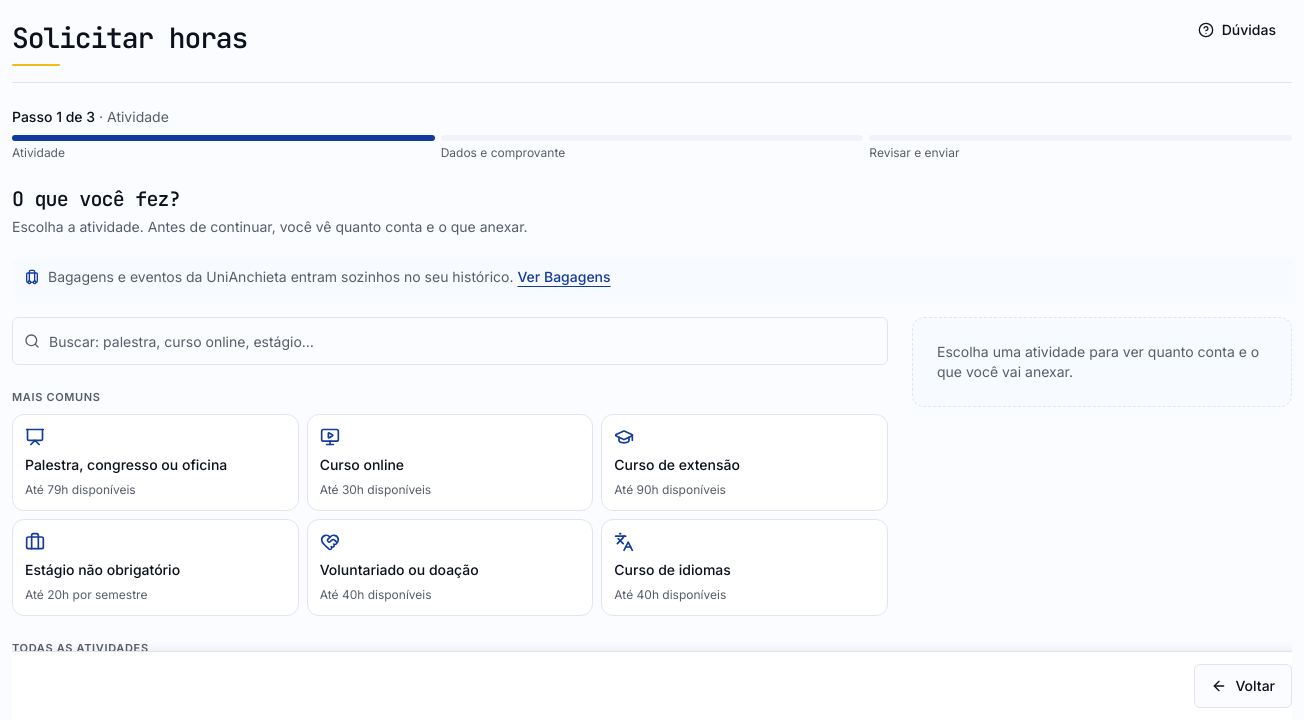
Test case: Solicitação › busca por bagagem explica que as horas entram sozinhas
This screenshot has width=1304, height=720.
In the search field named "Buscar atividade": (450, 341) [12,317,888,365], type "bagagem"
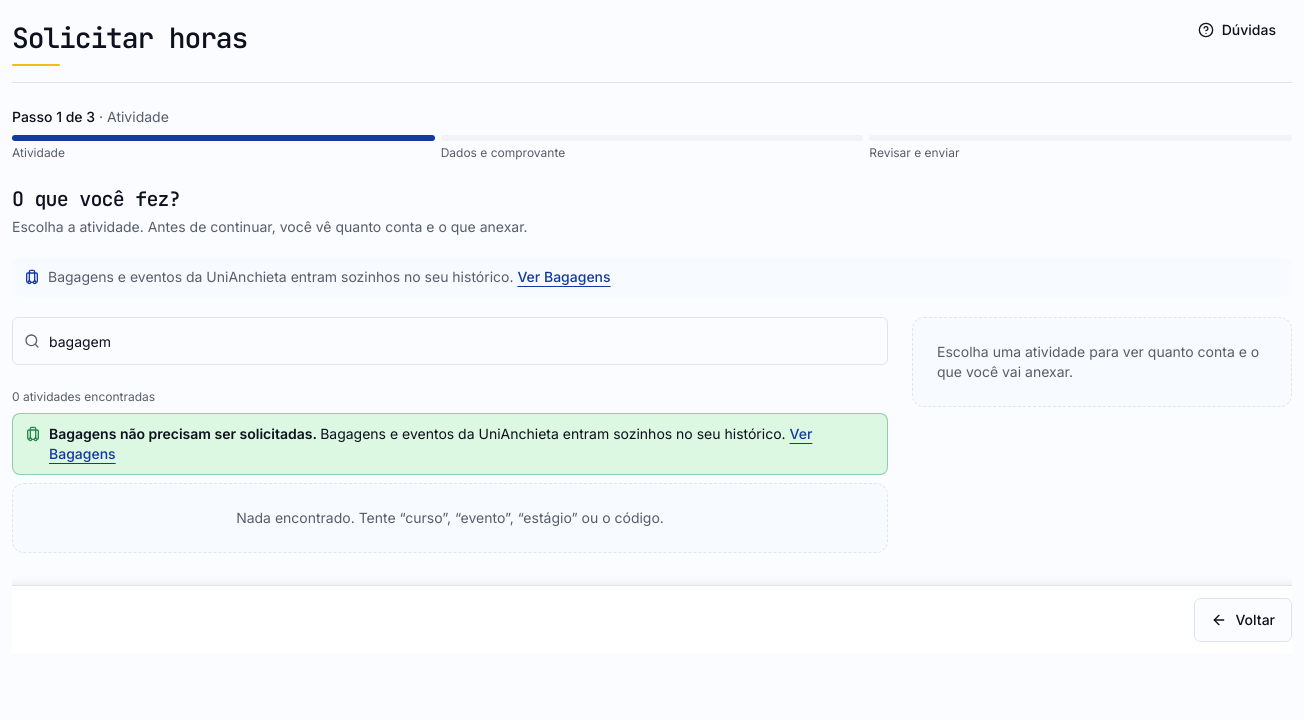
Result: the text "Bagagens não precisam ser solicitadas." is shown at [49,425,320,442]
